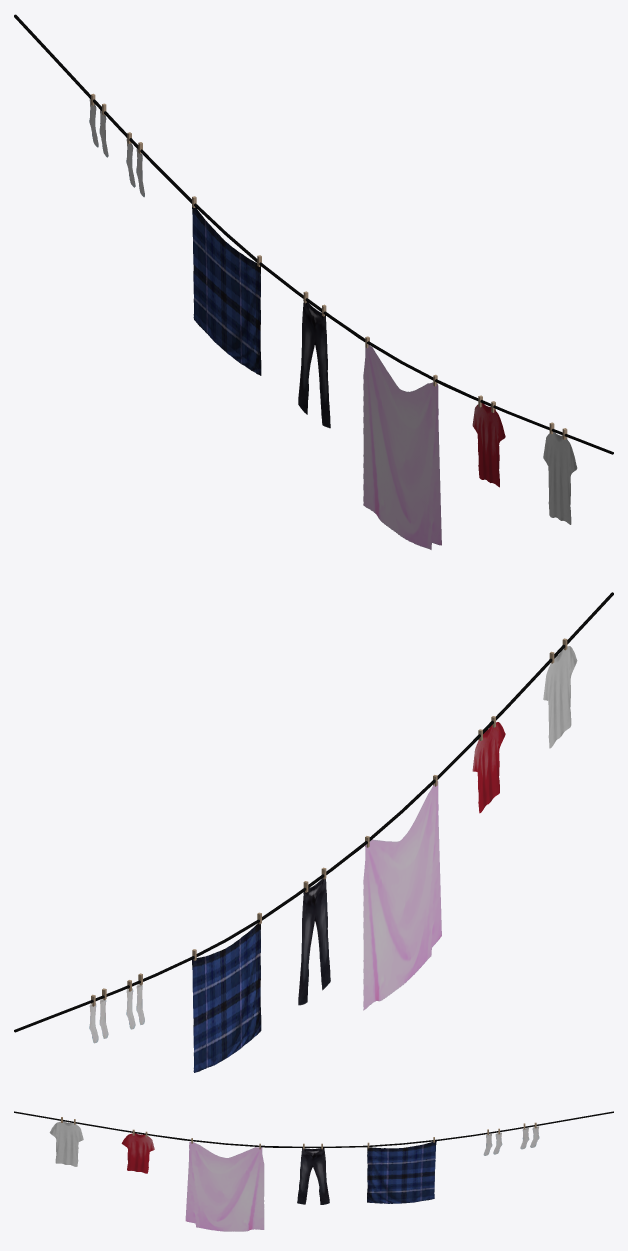
The model's file is Clothes_01.fbx.
3 views of the same model, one above another, from view 1: azimuth 30°, elevation 25°; view 2: azimuth 150°, elevation 25°; view 3: azimuth 270°, elevation 25° (orthographic). The views are drawn at different scales.
Parts seen in each view (by area): view 1: Cube.038; view 2: Cube.038; view 3: Cube.038.
Part boxes in pixels (box(x1,y1,x2,y2)): Cube.038: box(14, 14, 613, 549); Cube.038: box(14, 592, 613, 1072); Cube.038: box(14, 1111, 613, 1231).
Bounding box in the file's own units: 1247 × 287 × 3.69.
